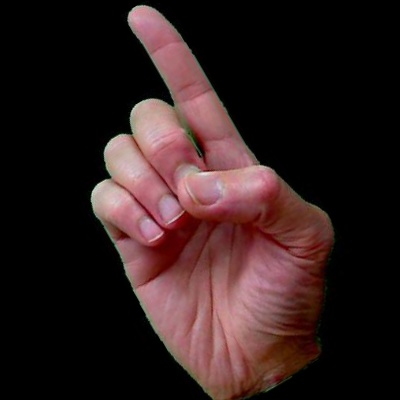d: (2, 2, 396, 386)
